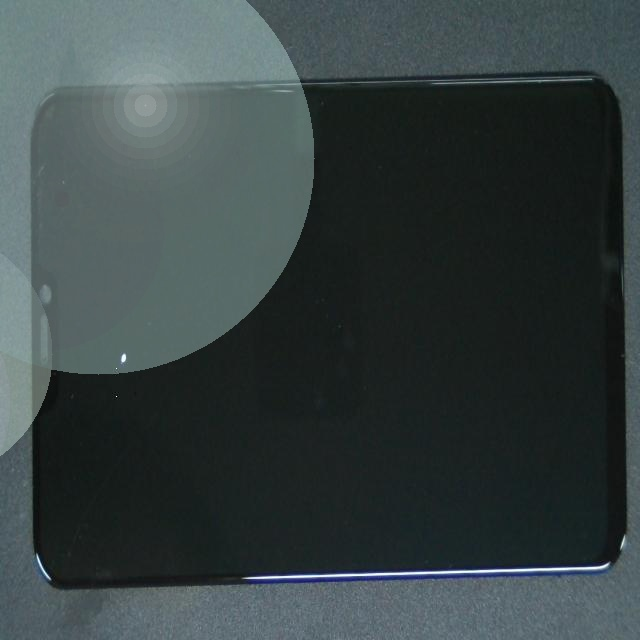stain: (47, 199, 143, 596)
